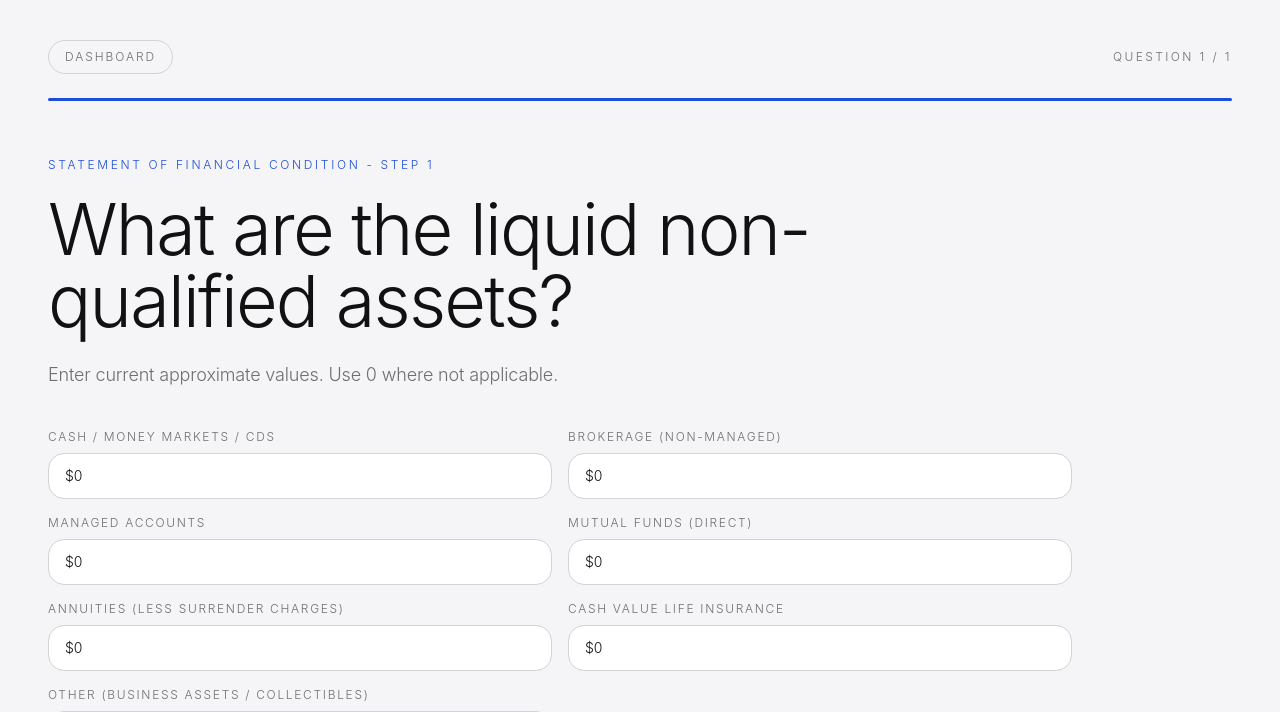
StatementOfFinancialConditionStep1Page › lets 0-valued amount inputs be cleared without restoring 0
This screenshot has width=1280, height=712.
expect the heading "What are the liquid non-qualified assets?" is shown: met, box [48,185,810,344]
Click the field labelled "Cash / Money Markets / CDs" at [300, 476], box [48,453,552,499]
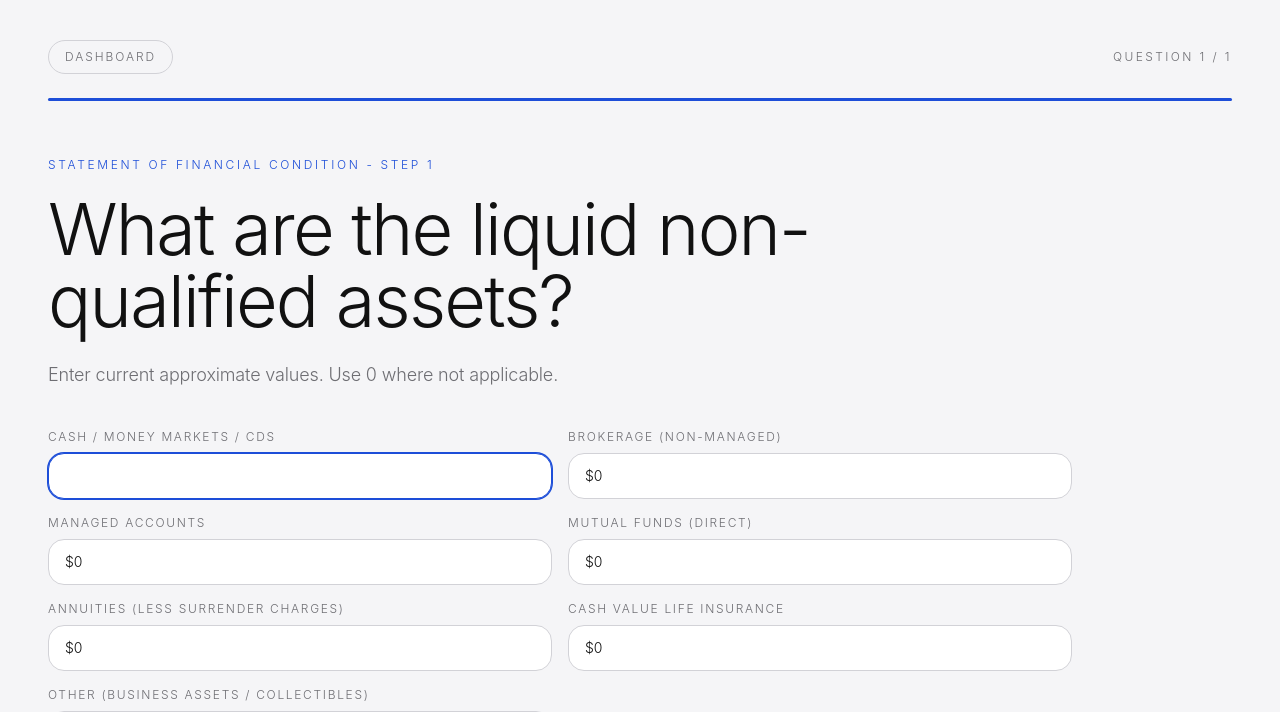
expect the field labelled "Cash / Money Markets / CDs" is empty: met
Type "1500000" into the field labelled "Cash / Money Markets / CDs" at [300, 476], box [48,453,552,499]
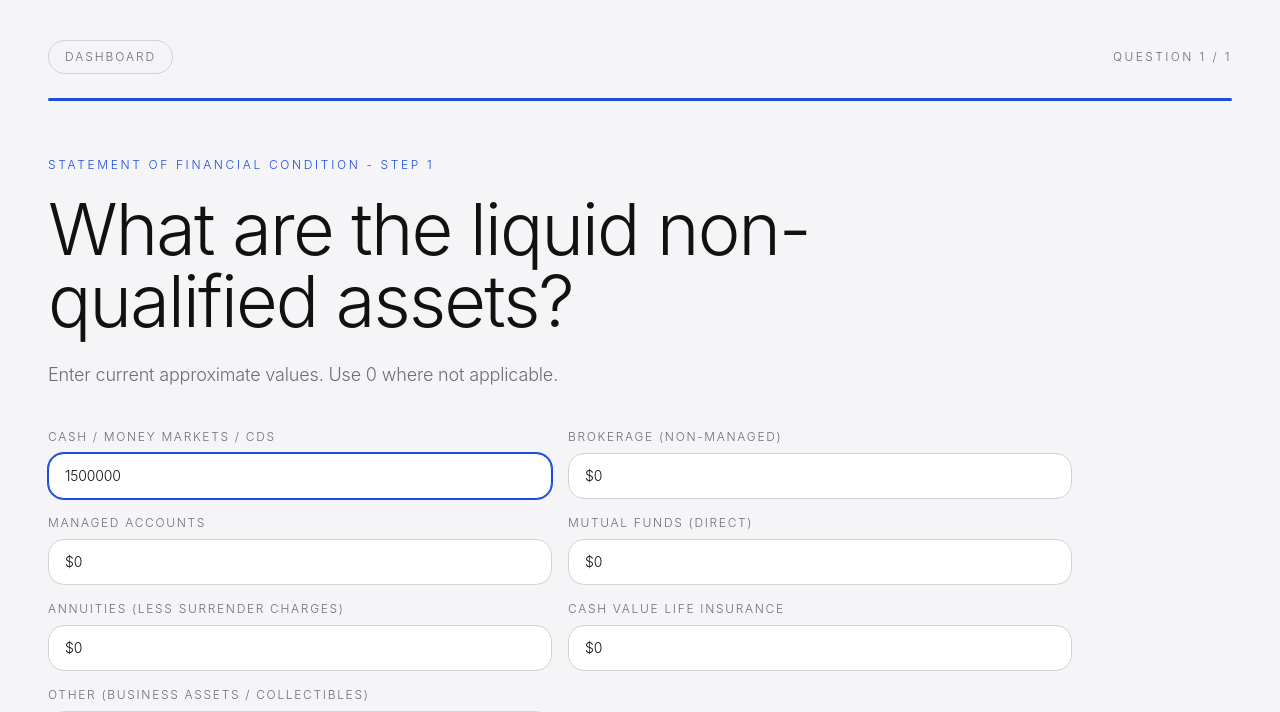
Press Tab
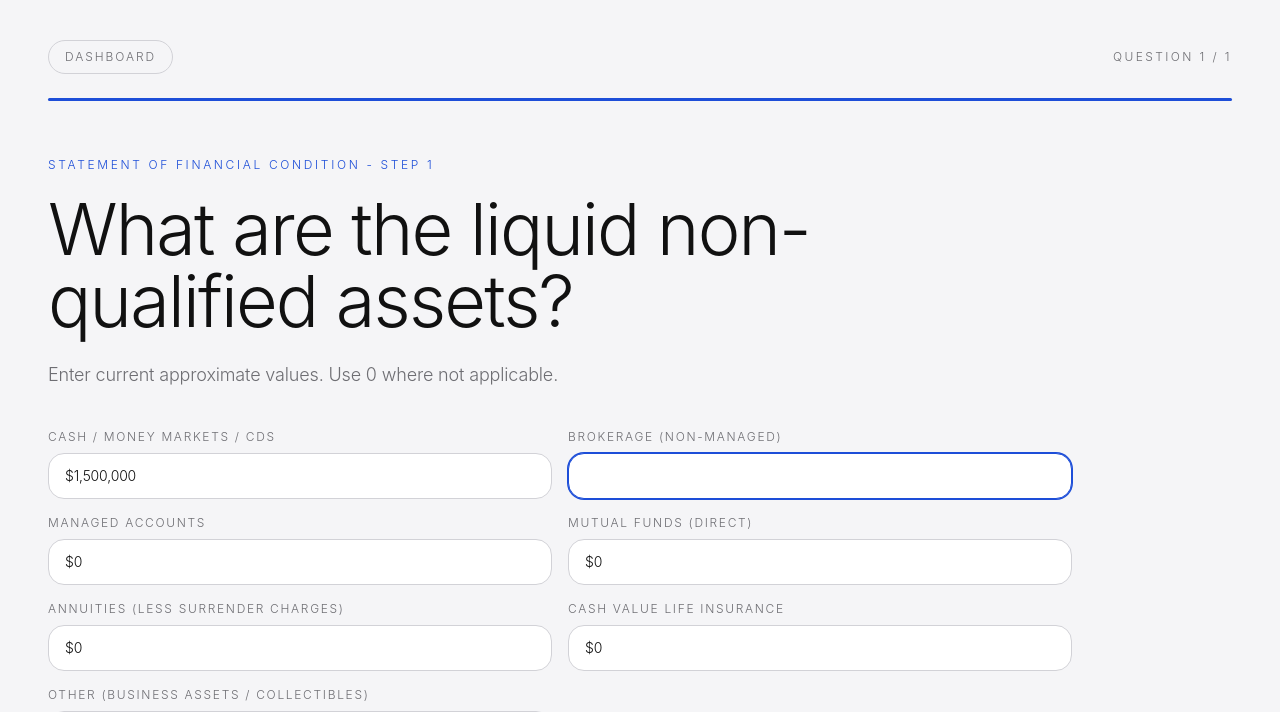
expect the field labelled "Cash / Money Markets / CDs" holds "$1,500,000": met, box [48,453,552,499]
